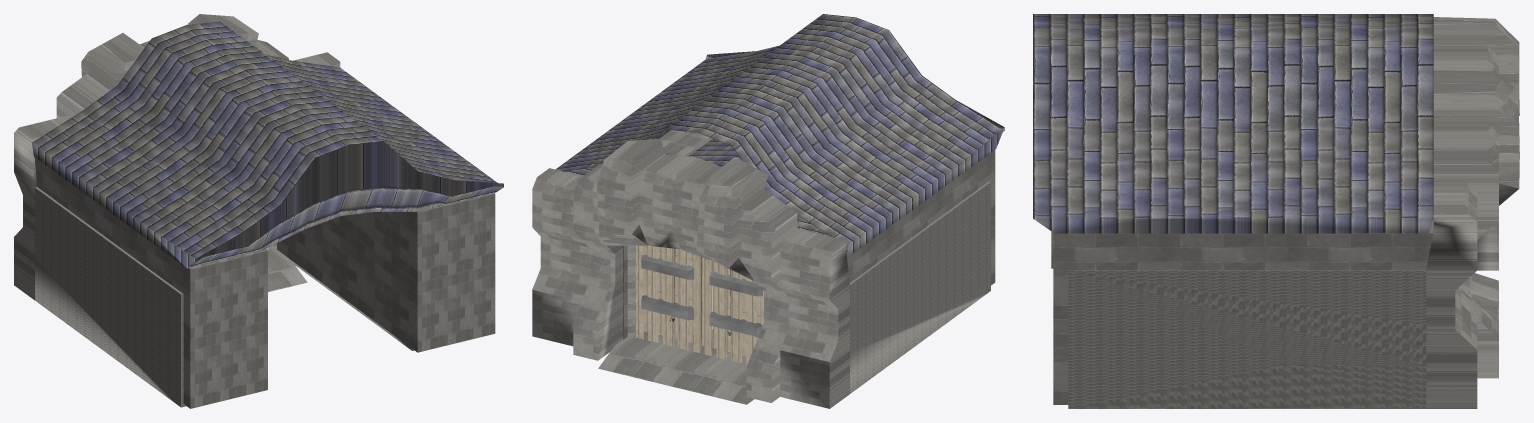
Rendered from Gate 1.fbx.
3 renders of one model, left to right at view 1: azimuth 30°, elevation 25°; view 2: azimuth 150°, elevation 25°; view 3: azimuth 270°, elevation 25°, orthographic. The views are drawn at different scales.
Parts seen in each view (by area): view 1: wall_straight_gate_001_1, Cube, wall_straight_gate_001, Cube__1_, wall_straight_gate; view 2: wall_straight_gate, wall_straight_gate_001_1, wall_straight_gate_001, wall_straight_gate_door_right, wall_straight_gate_door_left, Cube__1_, Cube; view 3: wall_straight_gate_001_1, wall_straight_gate_001, wall_straight_gate, Cube.
Part boxes in pixels (x1,y1,x2,y2): wall_straight_gate_001_1: (32,21,503,268); Cube: (277,193,495,352); wall_straight_gate_001: (35,188,414,407); Cube__1_: (34,157,267,408); wall_straight_gate: (14,14,340,300); wall_straight_gate: (532,138,990,408); wall_straight_gate_001_1: (555,14,1004,256); wall_straight_gate_001: (850,182,990,393); wall_straight_gate_door_right: (635,245,703,353); wall_straight_gate_door_left: (704,258,763,364); Cube__1_: (847,150,995,285); Cube: (623,130,712,339); wall_straight_gate_001_1: (1033,14,1433,233); wall_straight_gate_001: (1068,270,1426,408); wall_straight_gate: (1068,17,1519,408); Cube: (1053,220,1433,404).
Size of the model in its own units: 280 by 211 by 313.
Materials: 8 (8 with a texture image).
